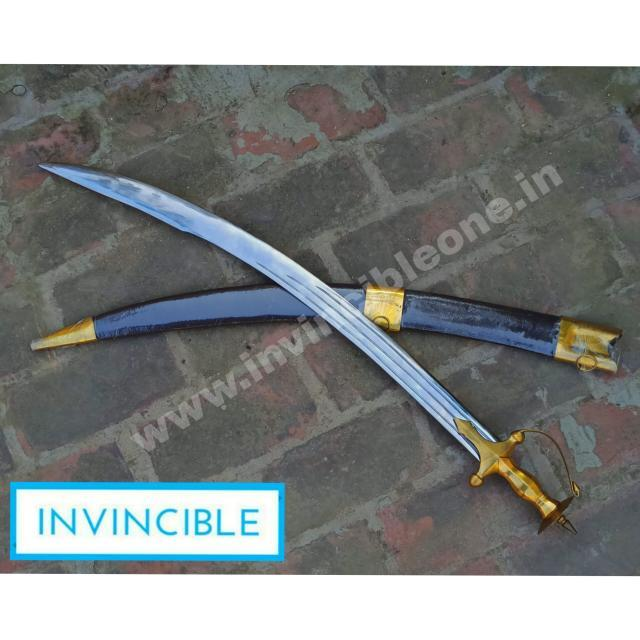cutlass: (26, 155, 600, 534)
scabbard: (14, 280, 625, 378)
